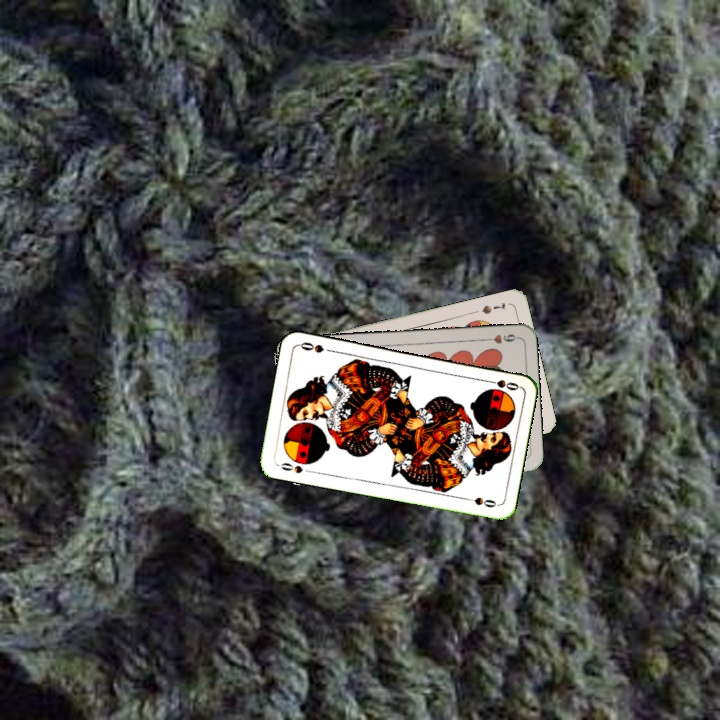H9: (480, 330, 520, 347)
S7: (478, 299, 508, 317)
SO: (481, 376, 521, 393), (274, 459, 306, 476)
